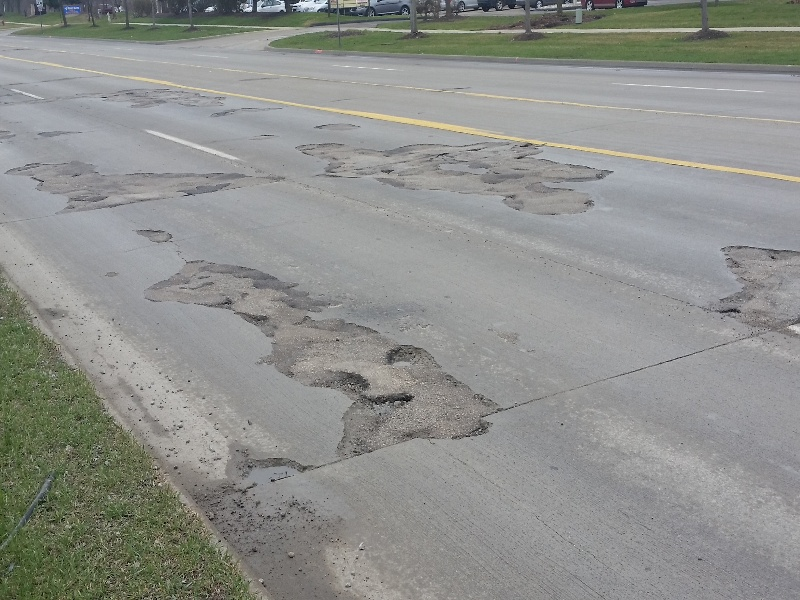pothole: (139, 250, 509, 450), (289, 128, 617, 224), (3, 157, 289, 216)
